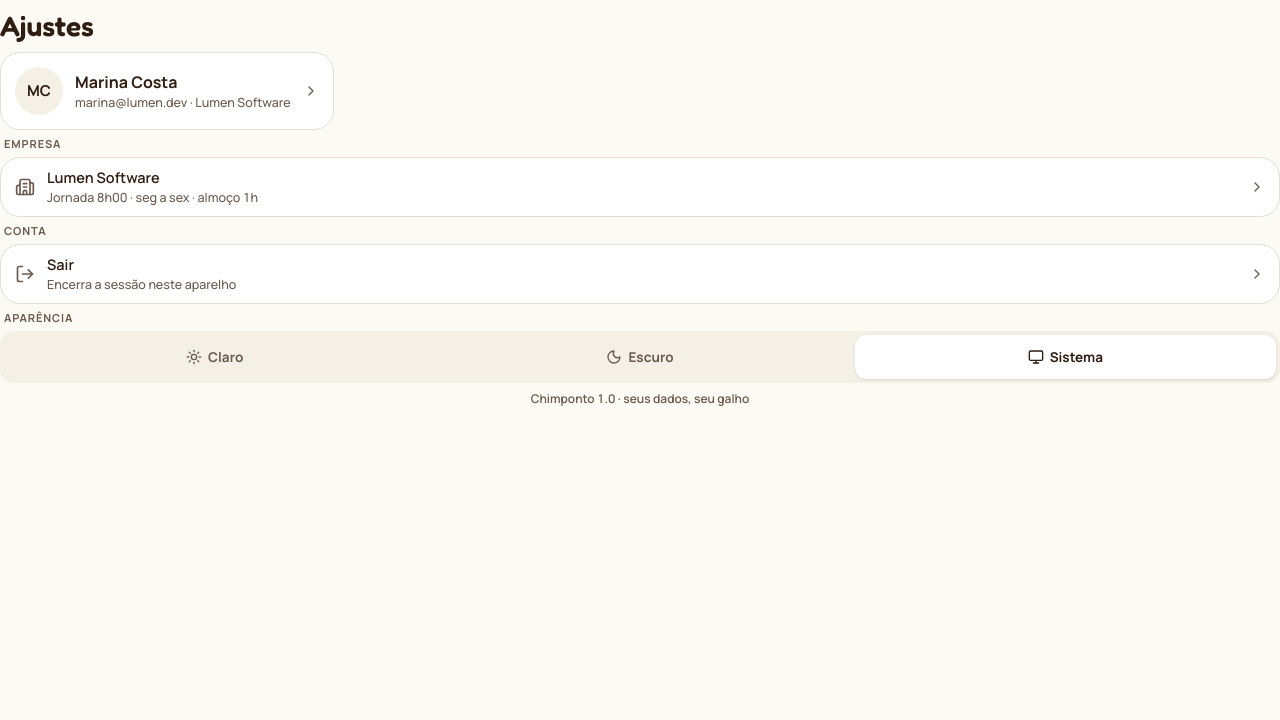
it: <SettingsScreen> › keeps the sheet open with a toast when the name can't be saved
Click the button "MC Marina Costa marina@lumen.dev · Lumen Software" at (167, 91), box [0, 52, 334, 130]
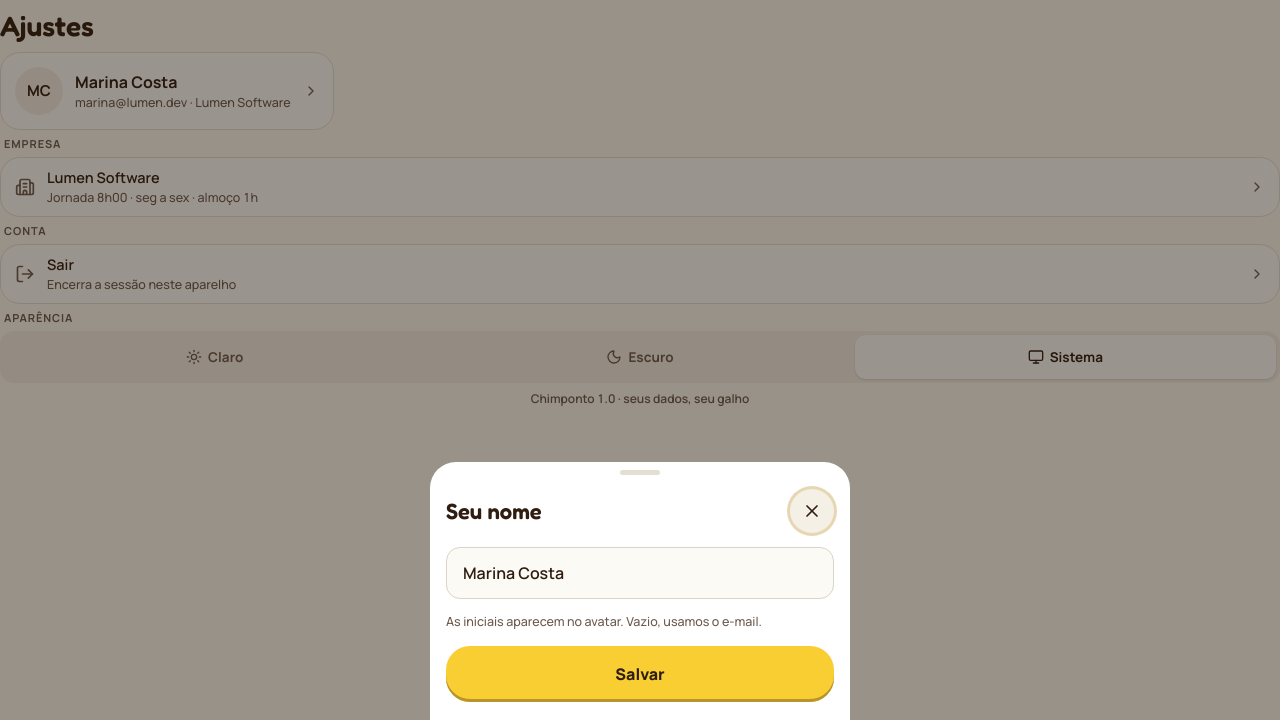
Type " Silva" into the field named "Nome de exibição" at (640, 573), box [446, 547, 834, 599]
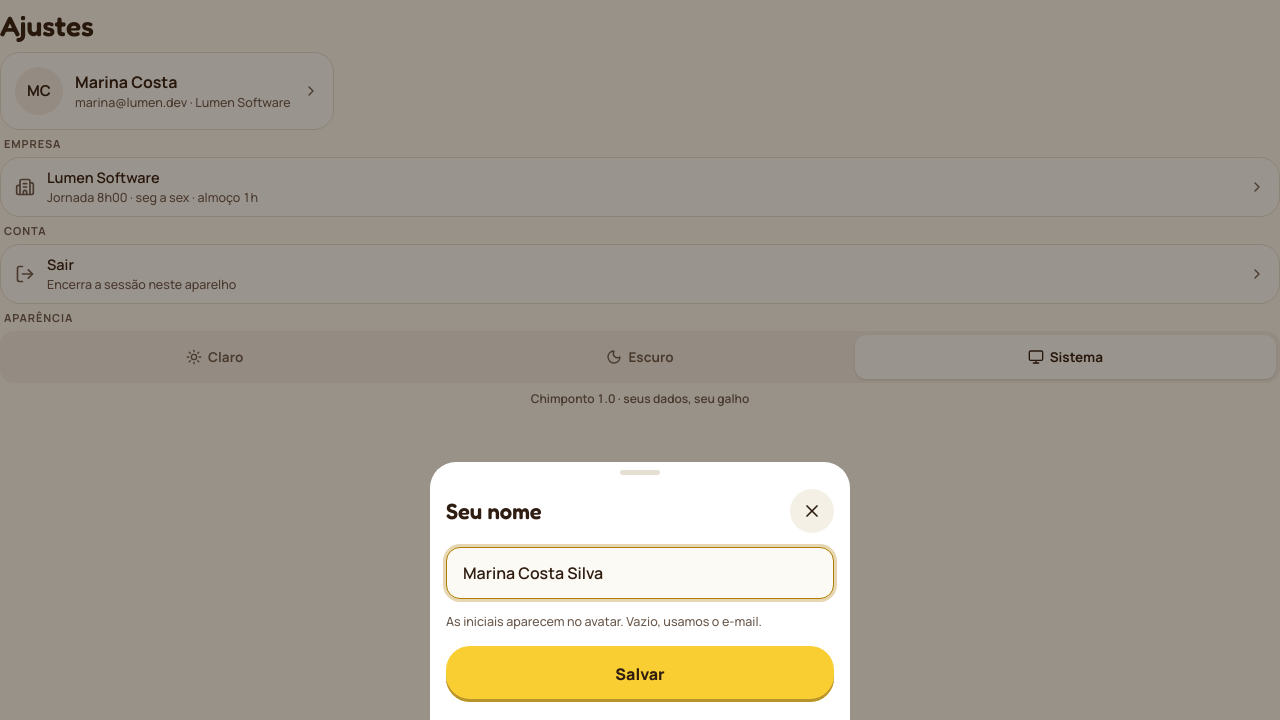
Click the button "Salvar" at (640, 674), box [446, 646, 834, 702]
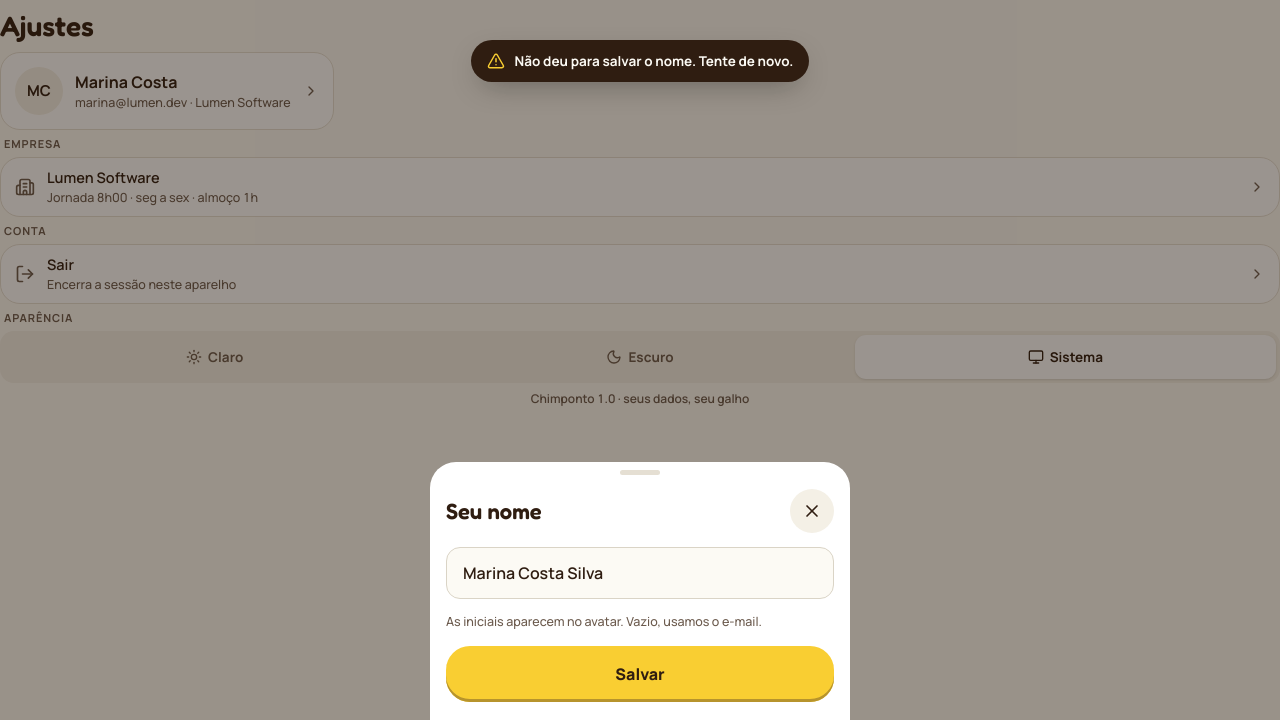
Expected: the field named "Nome de exibição" holds "Marina Costa Silva", [446, 547, 834, 599]
Expected: the text "Não deu para salvar o nome. Tente de novo." is shown, [471, 40, 809, 82]
